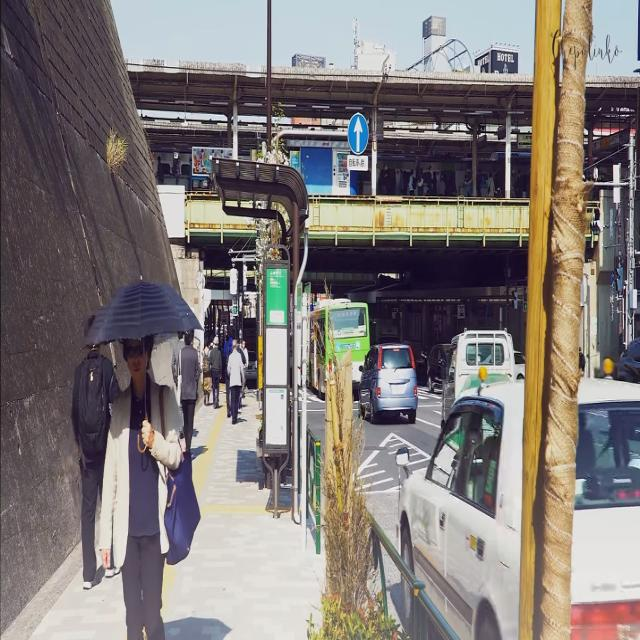bus: (309, 298, 373, 400)
